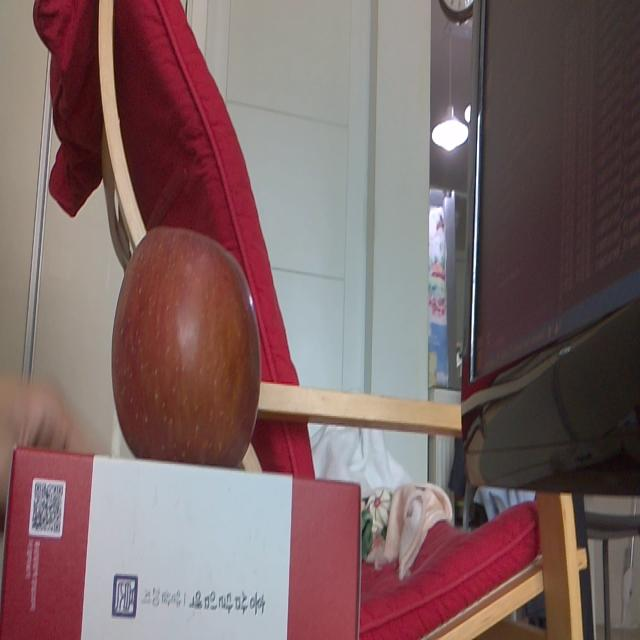apple: (113, 226, 260, 458)
